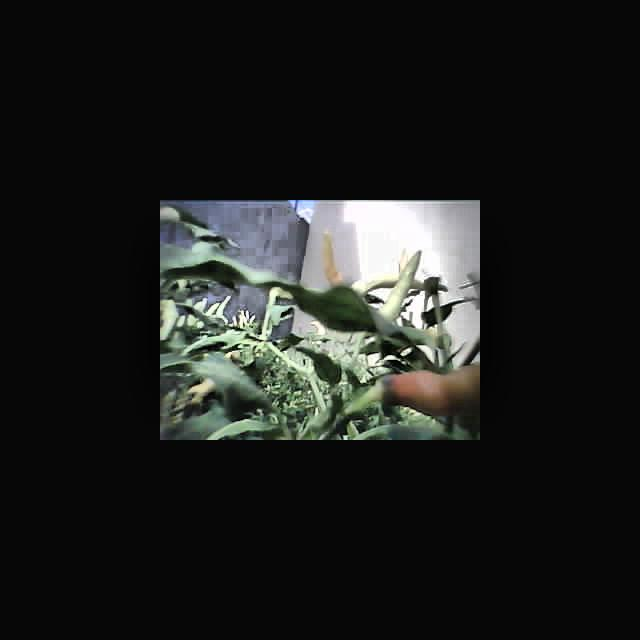Cabai: (370, 373, 480, 415), (318, 233, 346, 284)
